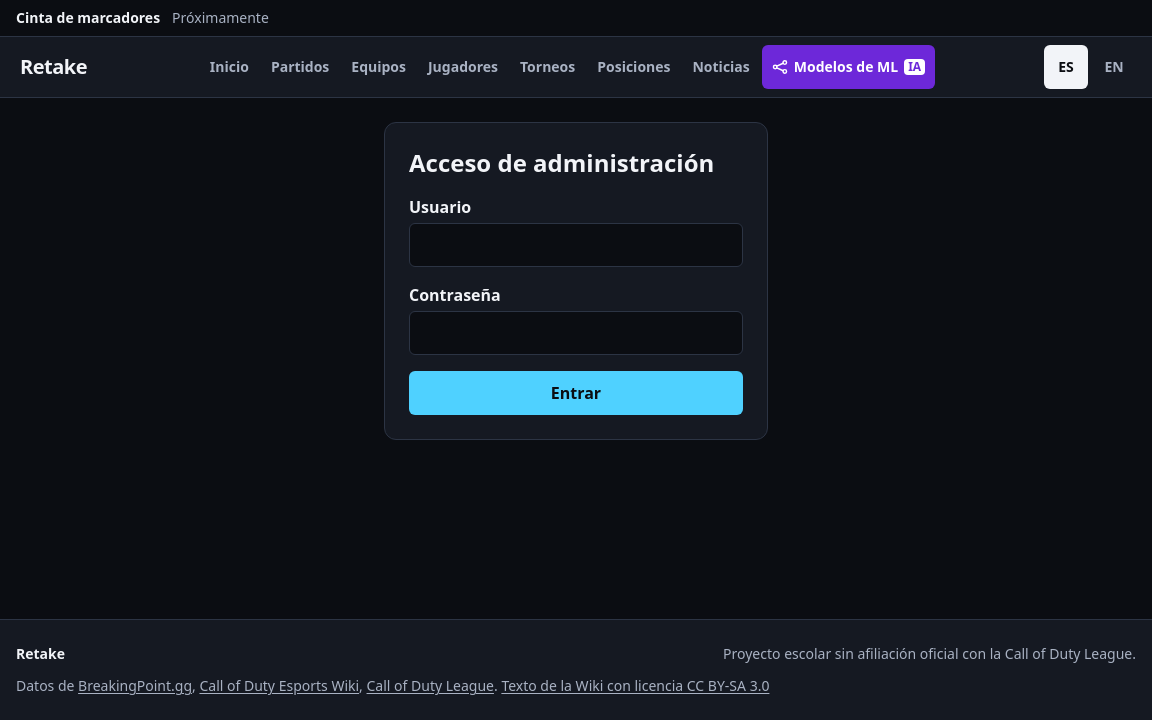
Test: página de administración (T-077 a T-079) › un fallo del servidor al entrar no se confunde con una contraseña incorrecta
This screenshot has width=1152, height=720.
In the field labelled "Usuario": (576, 245) [409, 223, 743, 267], type "hugo"
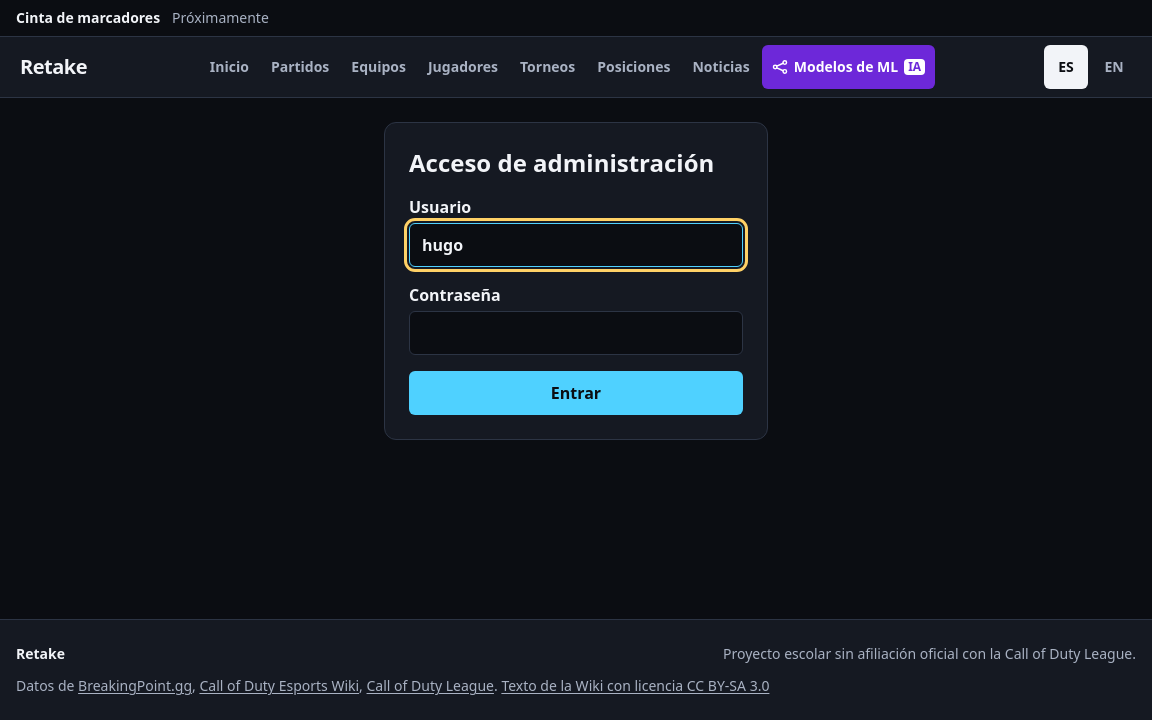
In the password field labelled "Contraseña": (576, 333) [409, 311, 743, 355], type "x"
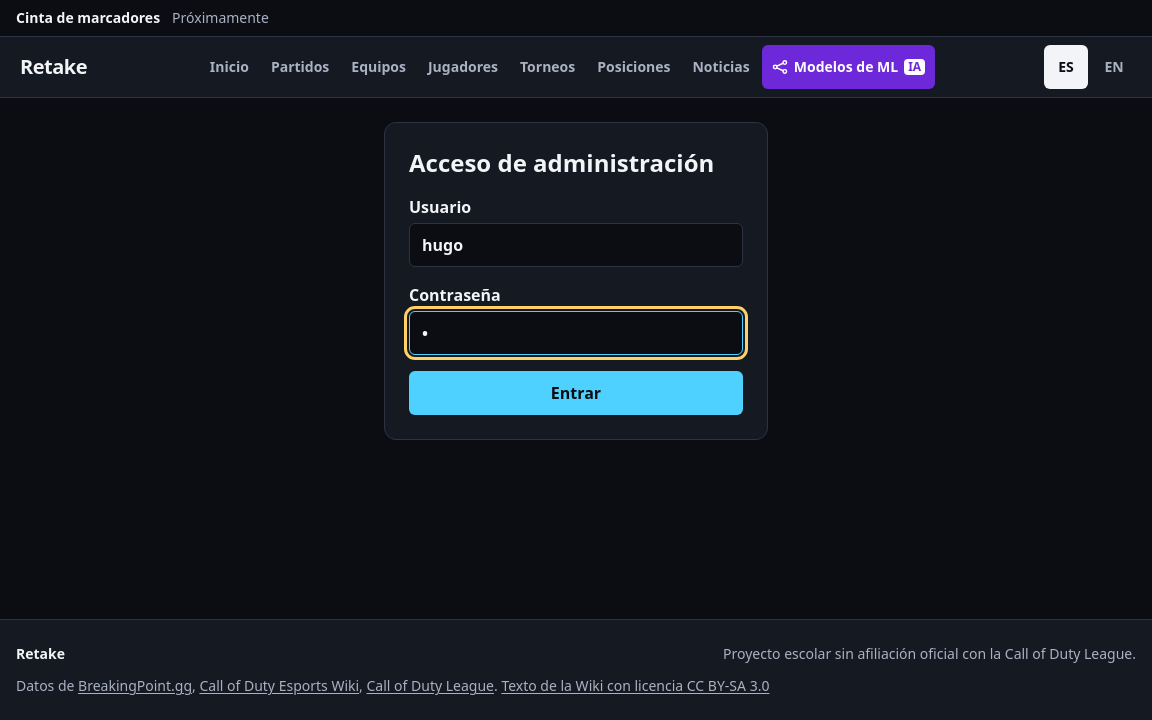
Click the button "Entrar": (576, 393) [409, 371, 743, 415]
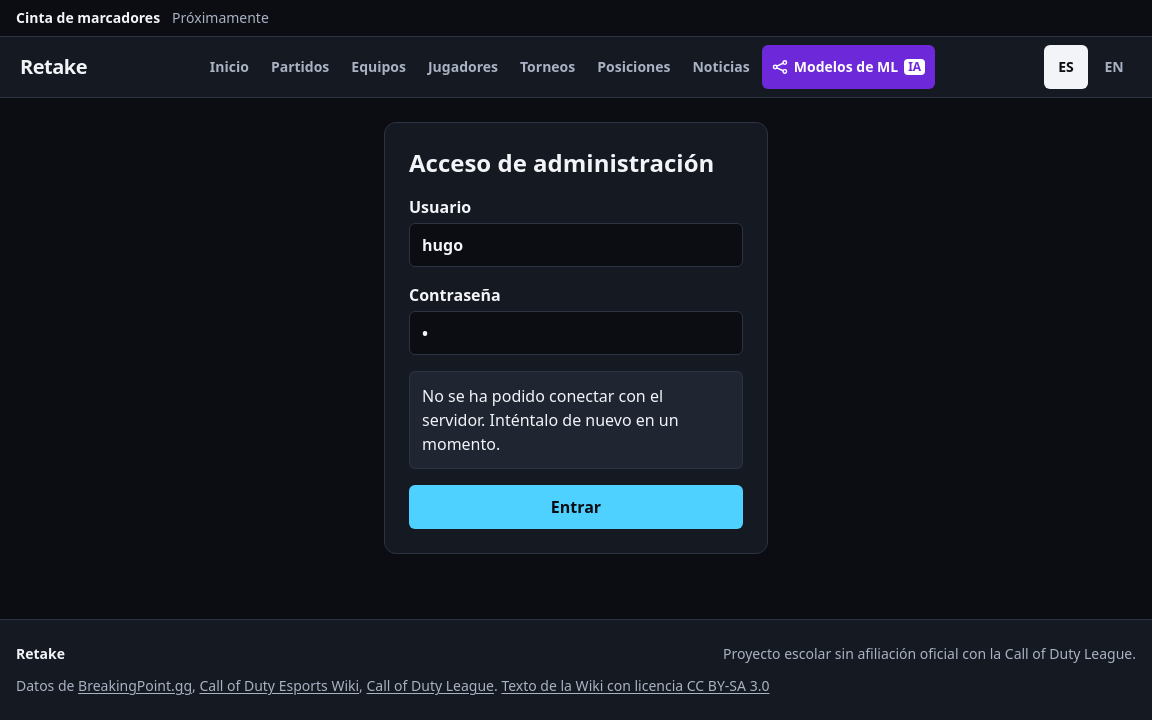
Expected: the message shows "No se ha podido conectar con el servidor", [422, 385, 679, 455]
